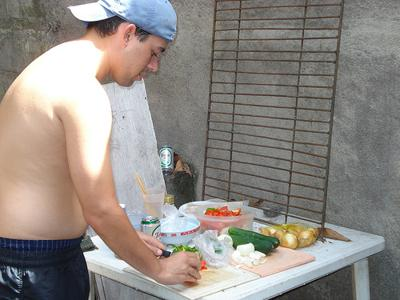person: (1, 1, 205, 300)
